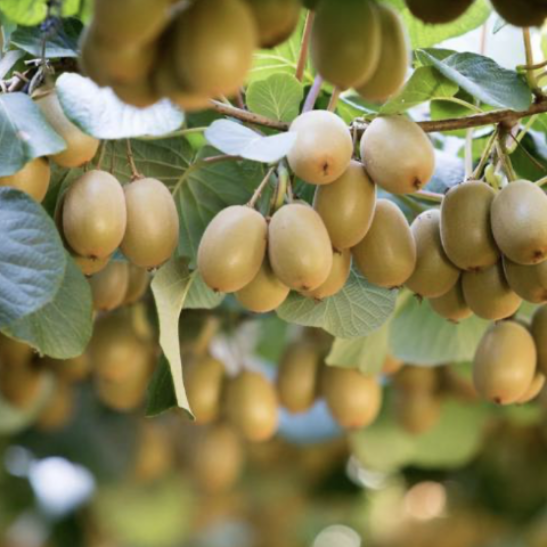kiwi: (195, 182, 275, 303), (434, 171, 516, 289), (108, 168, 189, 272), (359, 110, 442, 203), (254, 194, 334, 289), (470, 312, 542, 410), (61, 164, 126, 268)
